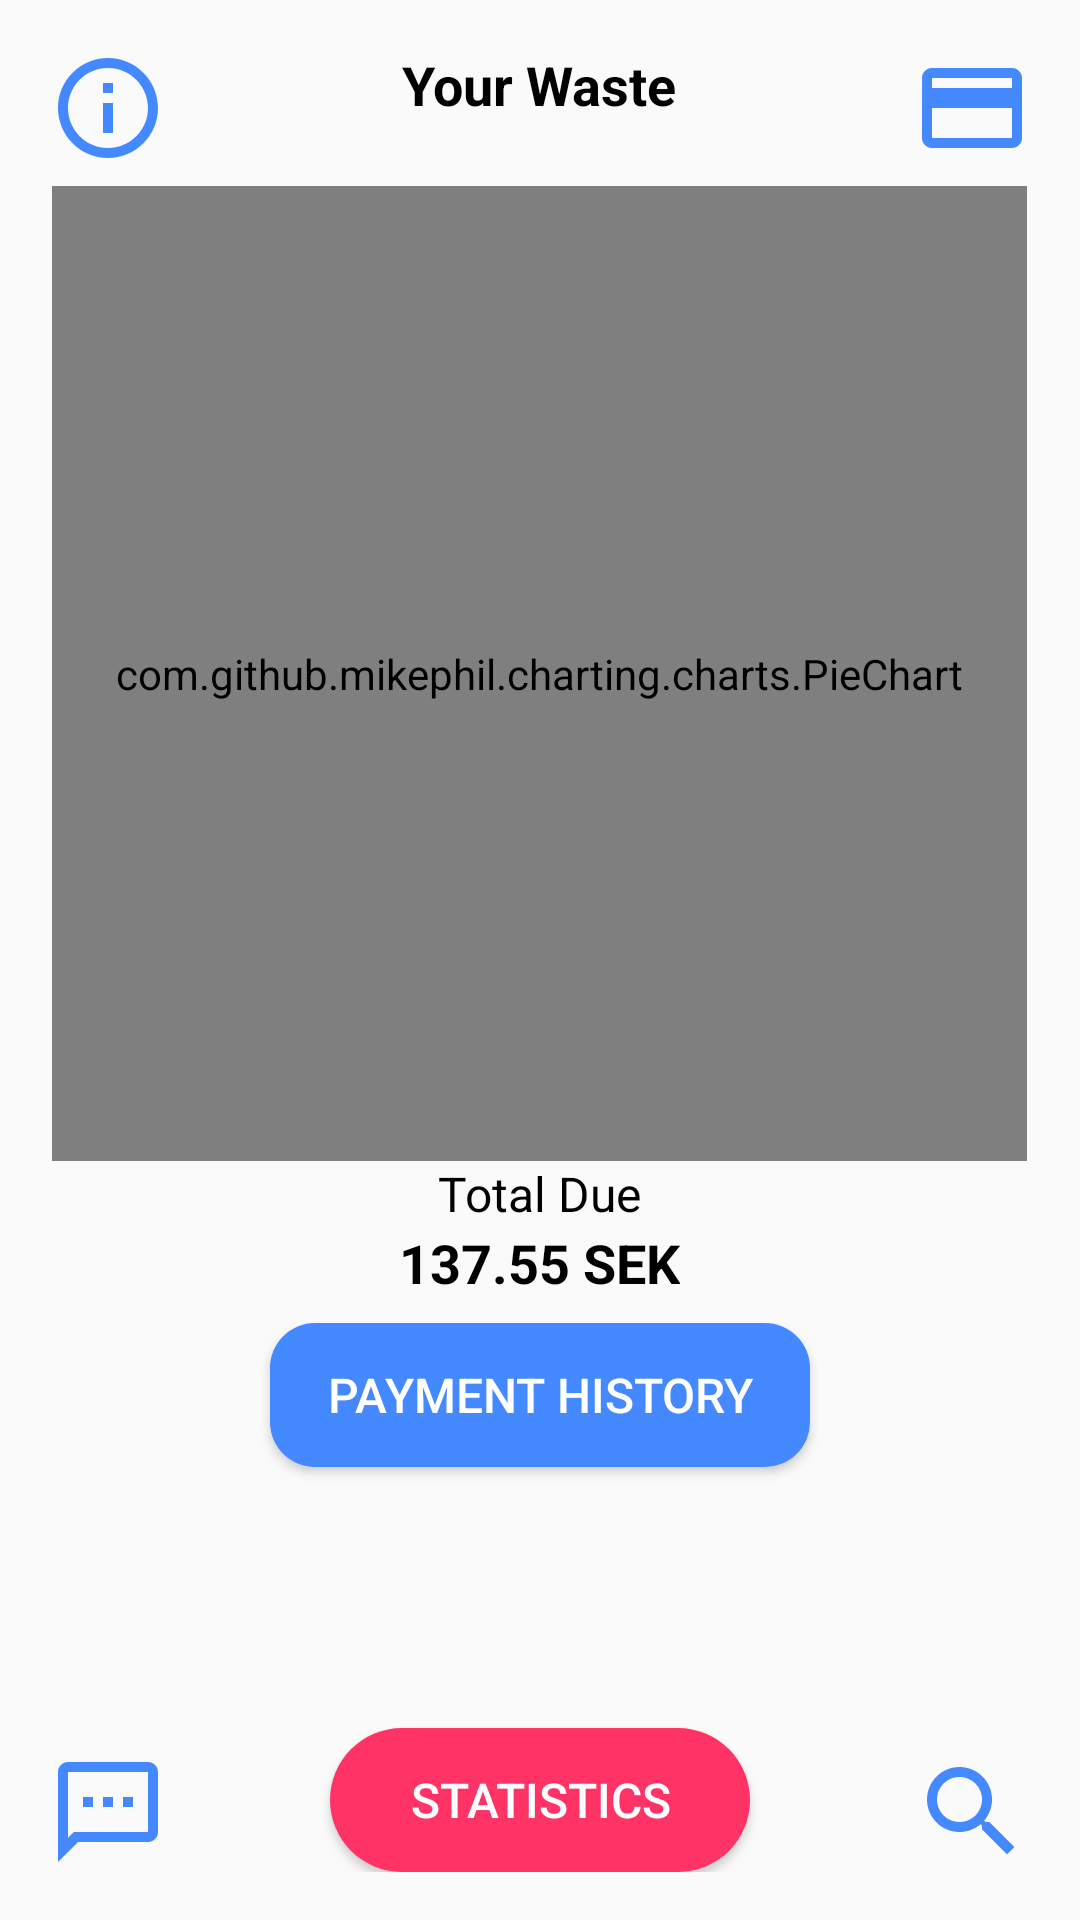

Where to tap for icons on this 1080 × 1920 app screen, as point (x, y):
credit card: point (972, 108)
info: point (108, 108)
search: point (970, 1810)
